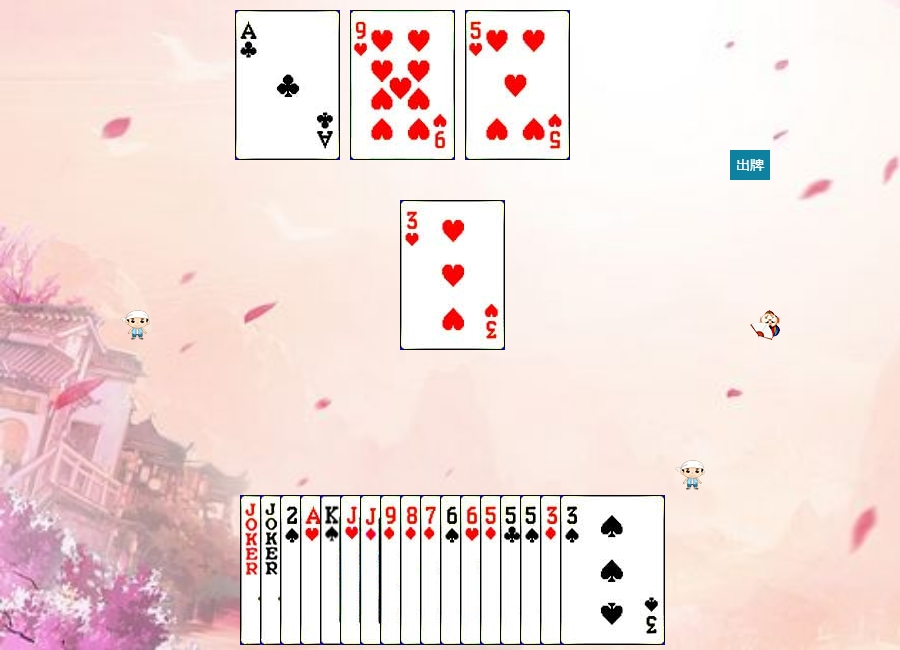11~1: (360, 495, 465, 645)
11~3: (340, 495, 445, 645)
13~4: (320, 495, 425, 645)
14~2: (235, 10, 340, 160)
14~3: (300, 495, 405, 645)
15~4: (280, 495, 385, 645)
17~3: (260, 495, 365, 645)
18~4: (240, 495, 345, 645)
3~1: (540, 495, 645, 645)
3~3: (400, 200, 505, 350)
3~4: (560, 495, 665, 645)
5~1: (480, 495, 585, 645)
5~2: (500, 495, 605, 645)
5~3: (465, 10, 570, 160)
5~4: (520, 495, 625, 645)
6~3: (460, 495, 565, 645)
6~4: (440, 495, 545, 645)
7~1: (420, 495, 525, 645)
8~1: (400, 495, 505, 645)
9~1: (380, 495, 485, 645)
9~3: (350, 10, 455, 160)
